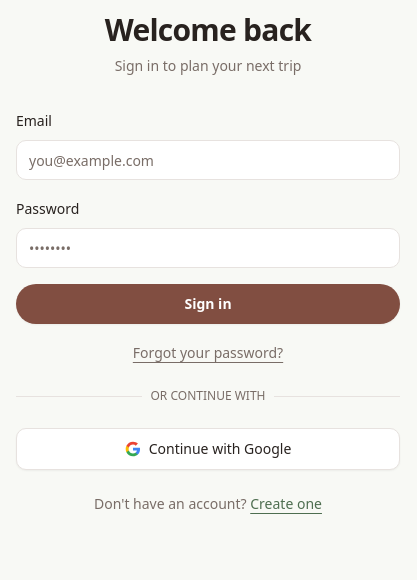
Test: LoginPage — Sign up mode › switches to sign-up mode when toggle clicked
Click the button "Create one" at (286, 504), box [250,494,322,514]
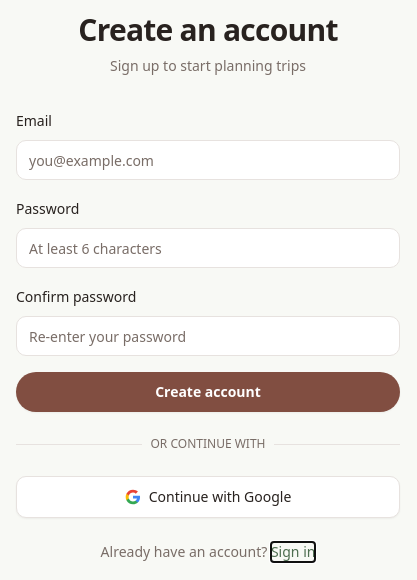
Check: the button "Create account" is shown, box [16,372,400,412]
